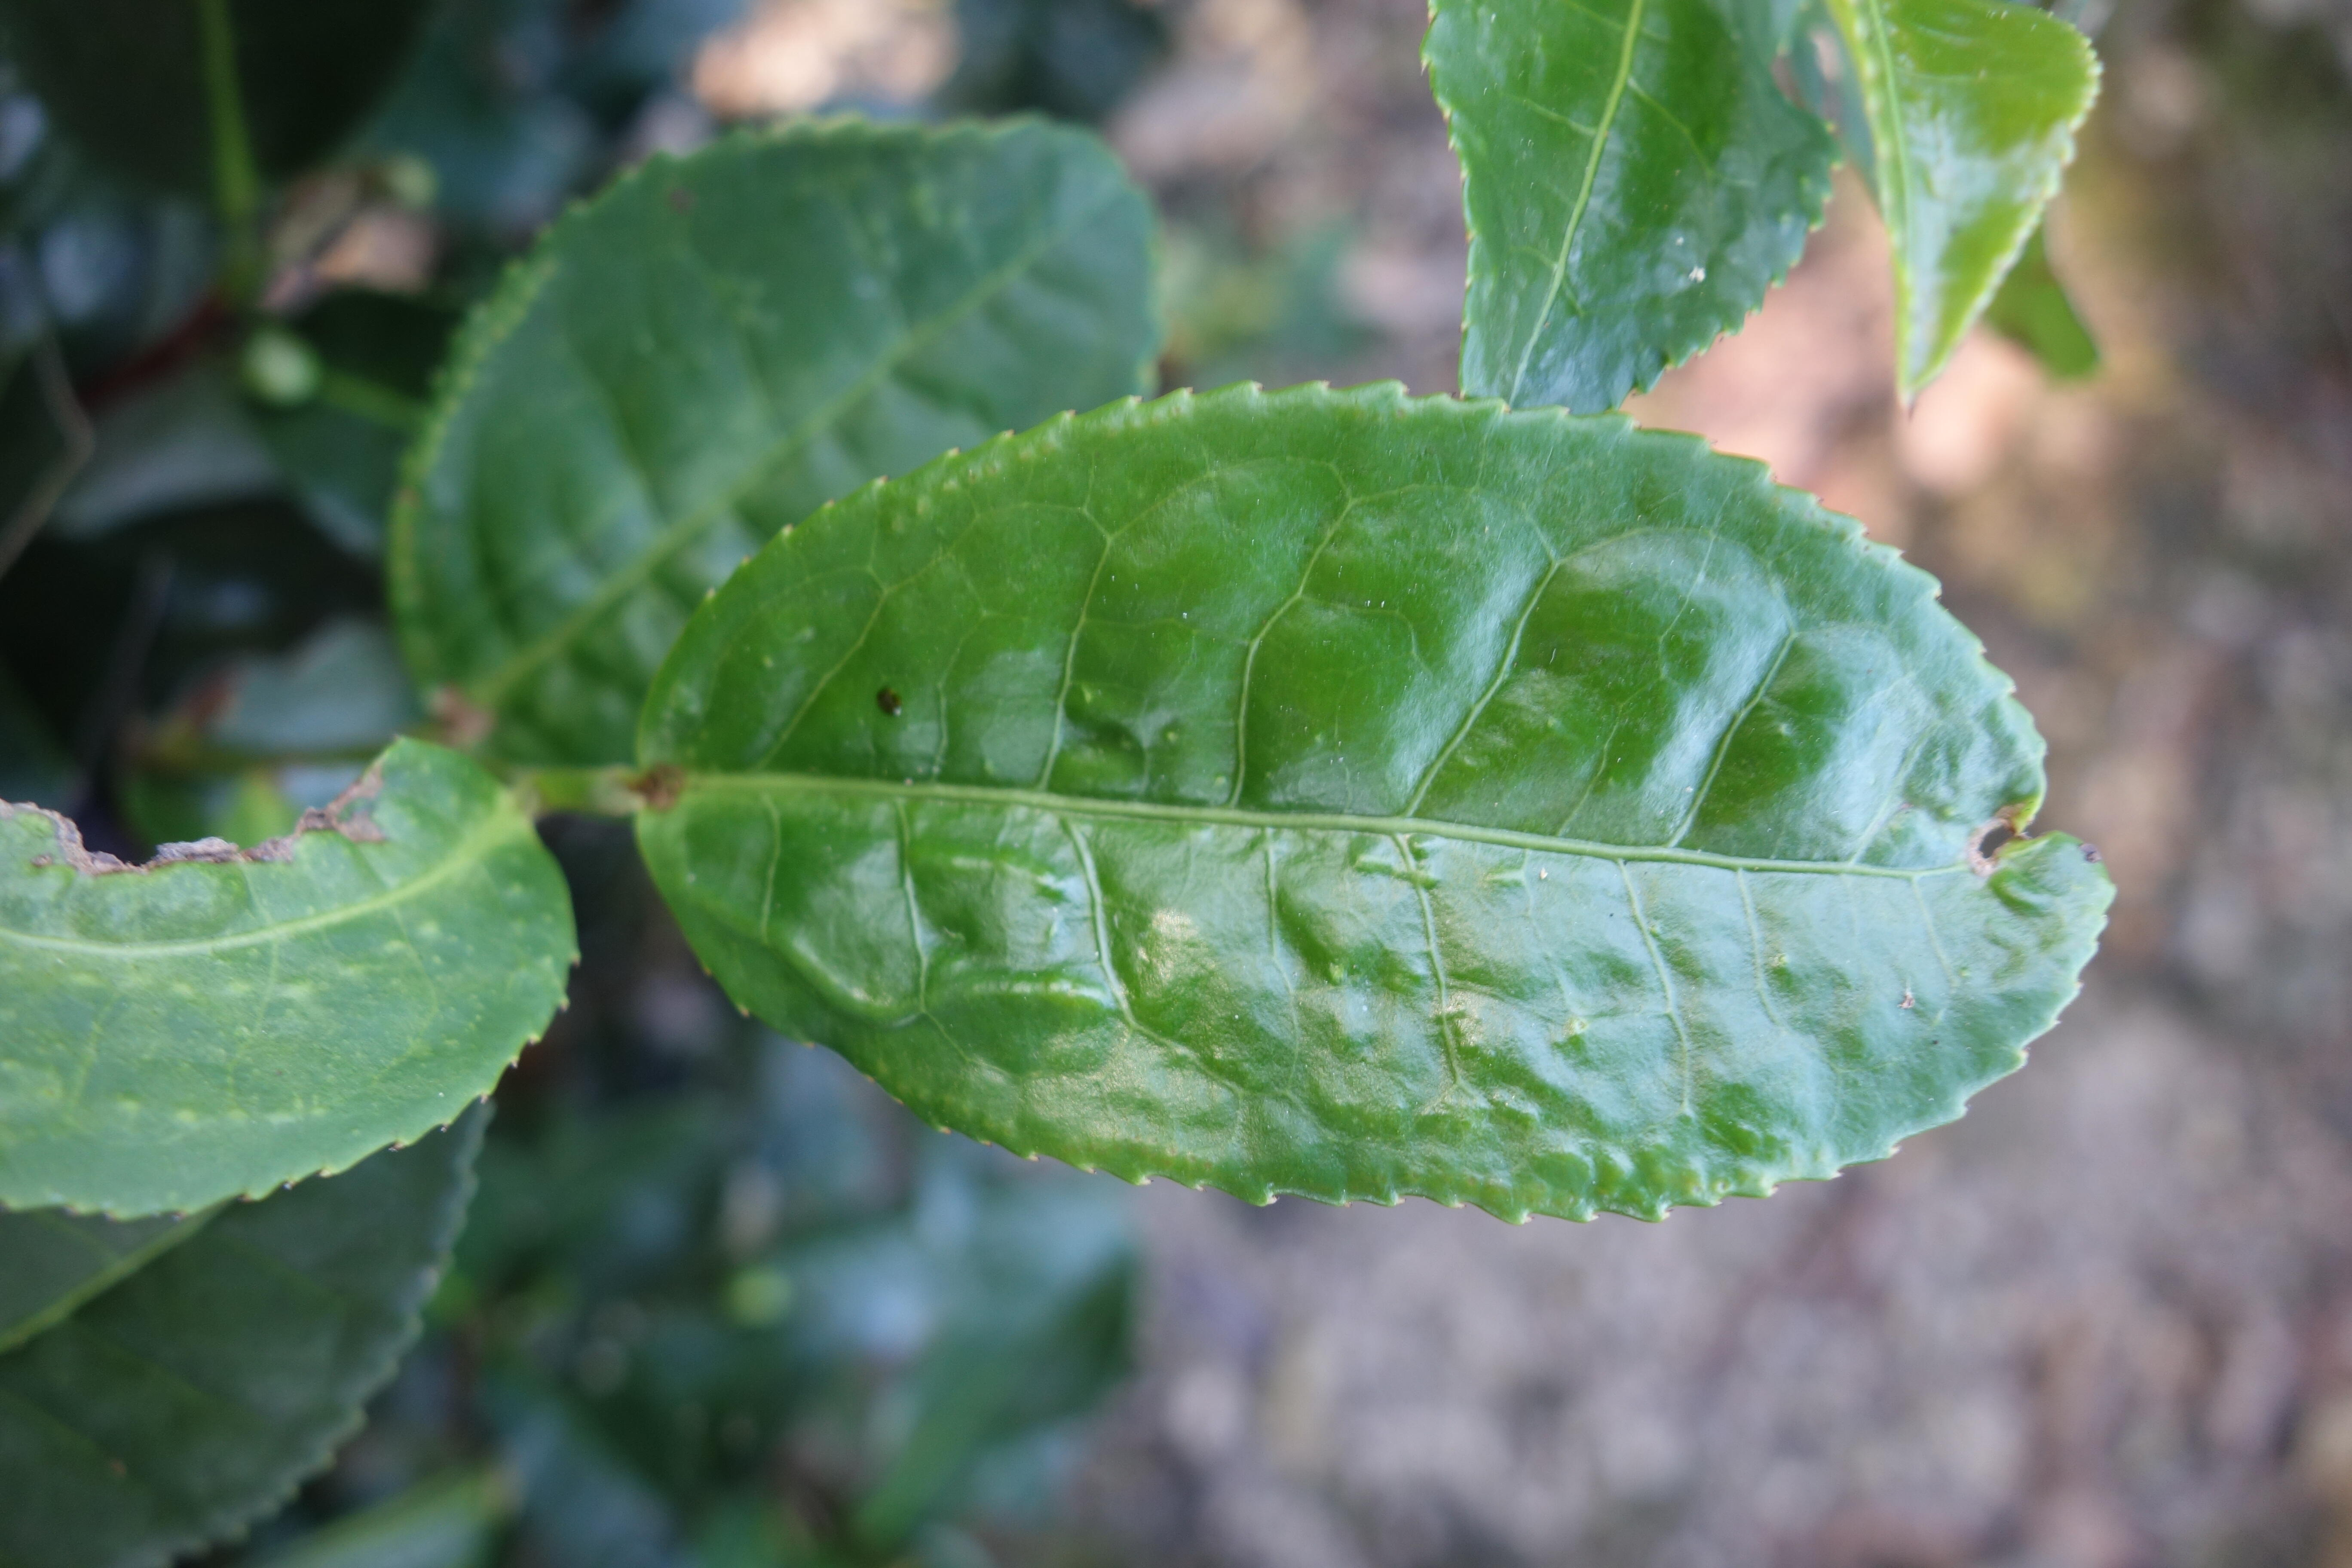chihuo_high: (0, 740, 579, 1213)
chihuo_low: (628, 380, 2119, 1227)
